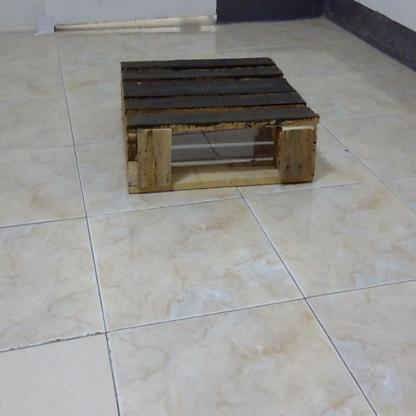Wooden-Pallet: (122, 55, 318, 193)
